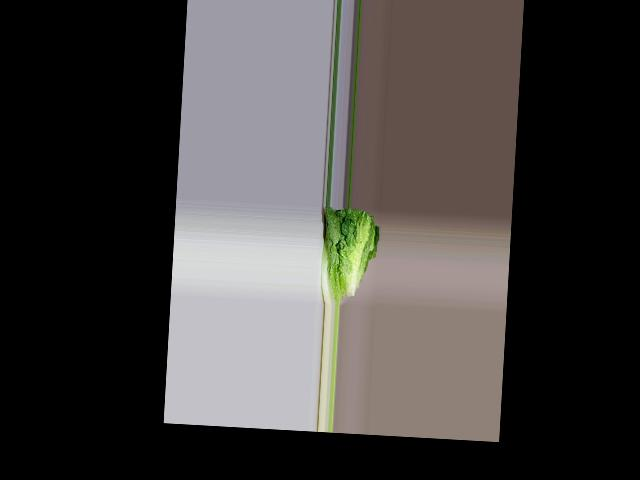lettuce: (317, 205, 373, 302)
